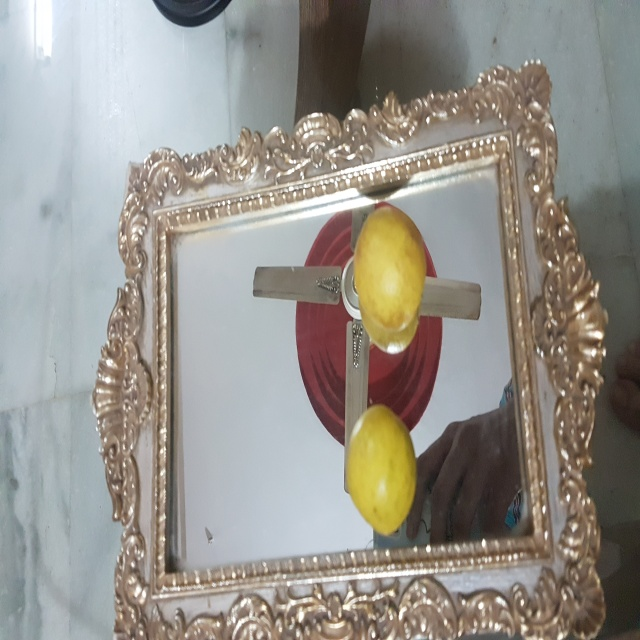lemon: (351, 208, 441, 337), (339, 405, 421, 537)
